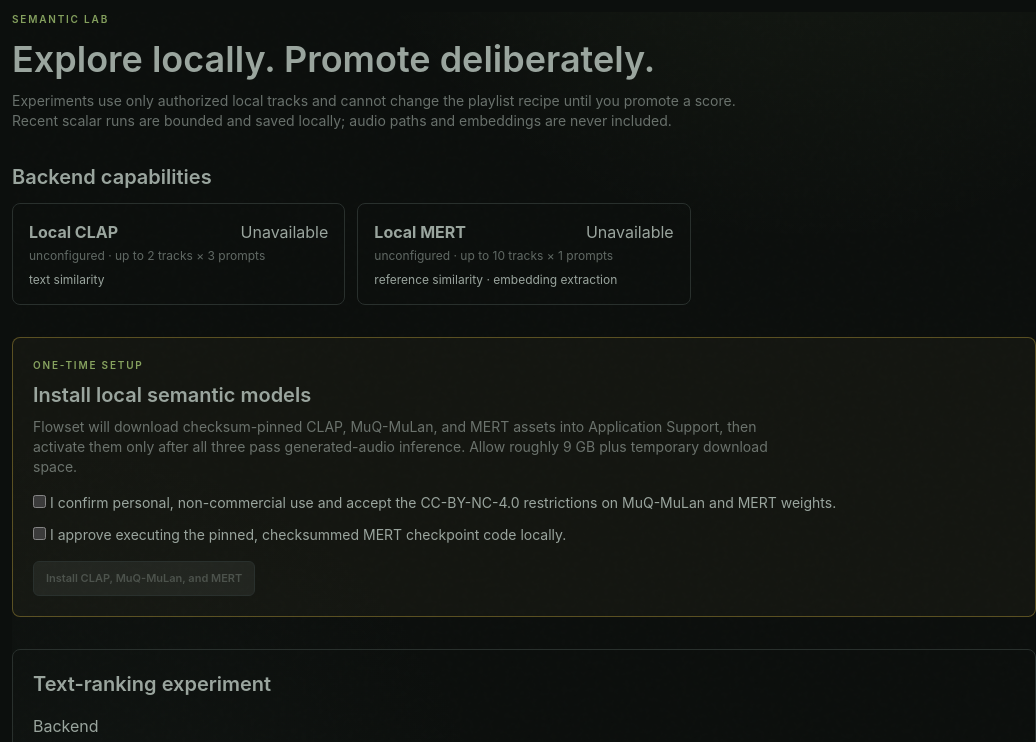
Test: requires explicit model-license and trusted-code consent before desktop provisioning
The image size is (1036, 742).
Expected: the button "Install CLAP, MuQ-MuLan, and MERT" is disabled, x1=33 y1=561 x2=255 y2=596
Click the checkbox labelled "personal, non-commercial use" at (40, 502), box x1=33 y1=495 x2=46 y2=508
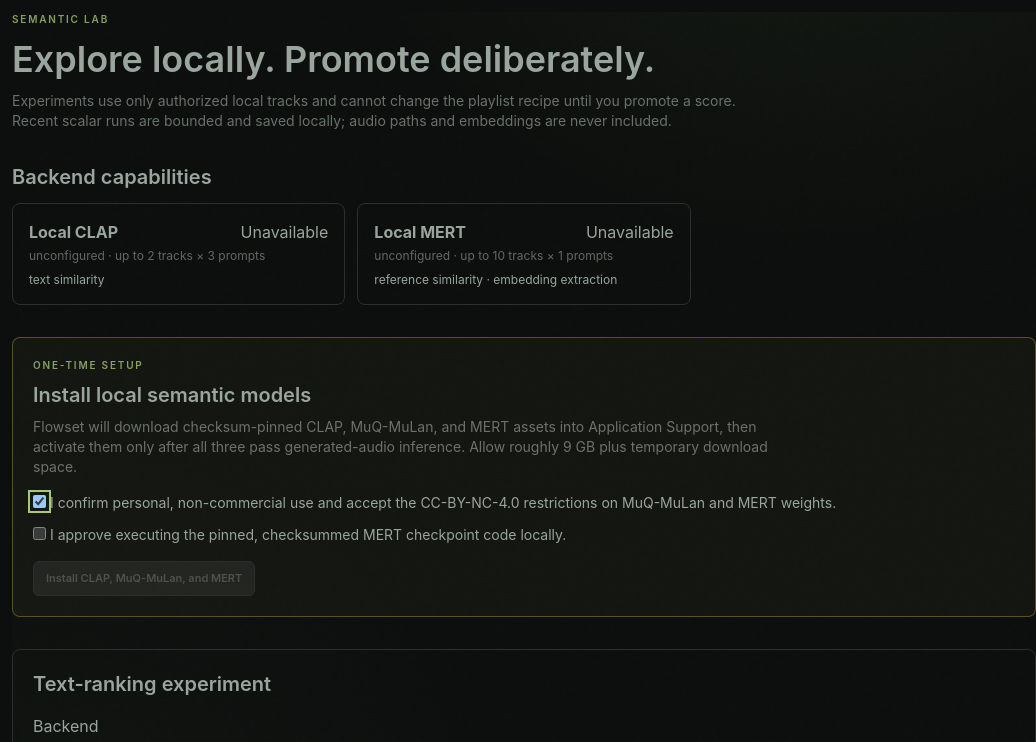
Expected: the button "Install CLAP, MuQ-MuLan, and MERT" is disabled, x1=33 y1=561 x2=255 y2=596
Click the checkbox labelled "pinned, checksummed MERT checkpoint code" at (40, 534), box x1=33 y1=527 x2=46 y2=540
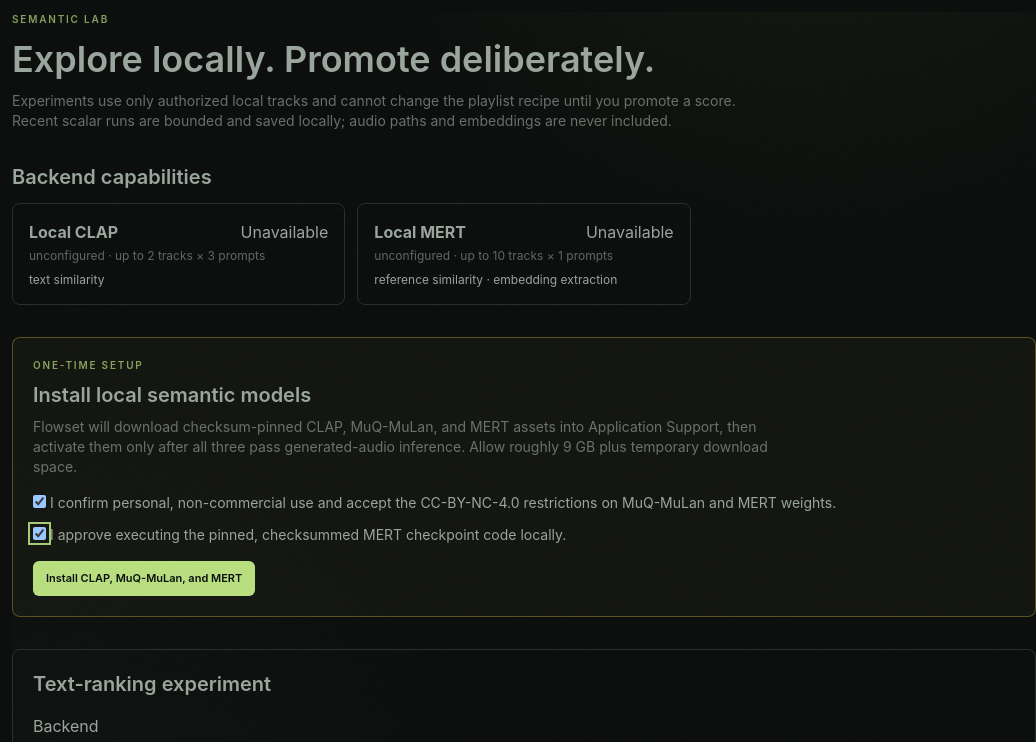
Expected: the text "roughly 9 GB" is shown, x1=33 y1=418 x2=768 y2=475
Expected: the button "Install CLAP, MuQ-MuLan, and MERT" is enabled, x1=33 y1=561 x2=255 y2=596
